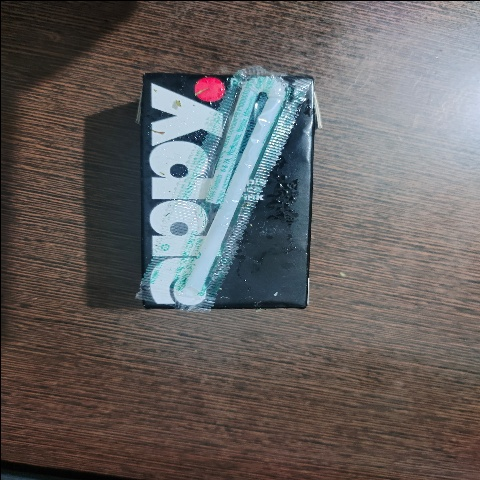appy: (131, 60, 330, 316)
